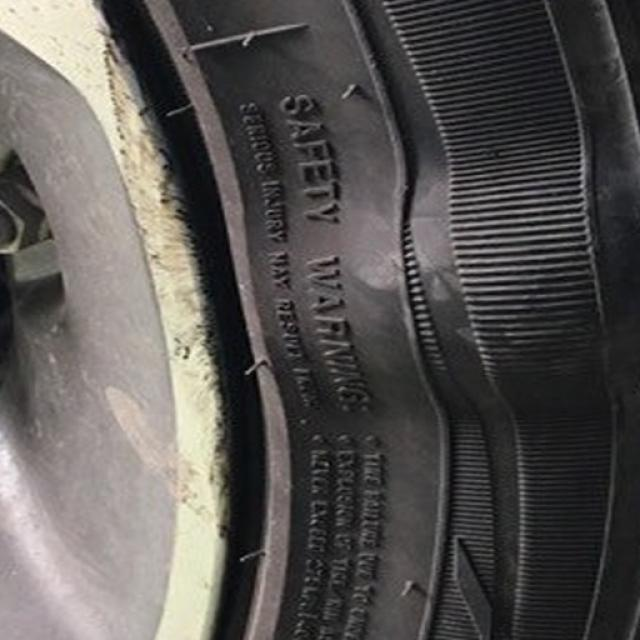Bulge: (237, 166, 638, 416)
